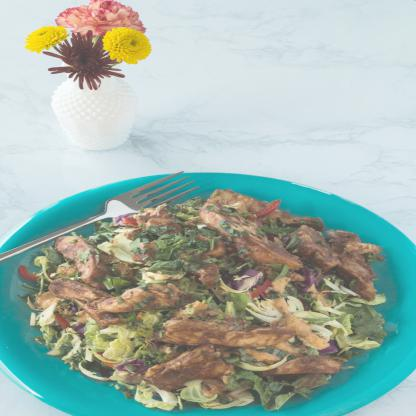Carne: (298, 227, 374, 270), (178, 318, 292, 346), (146, 348, 233, 378)
